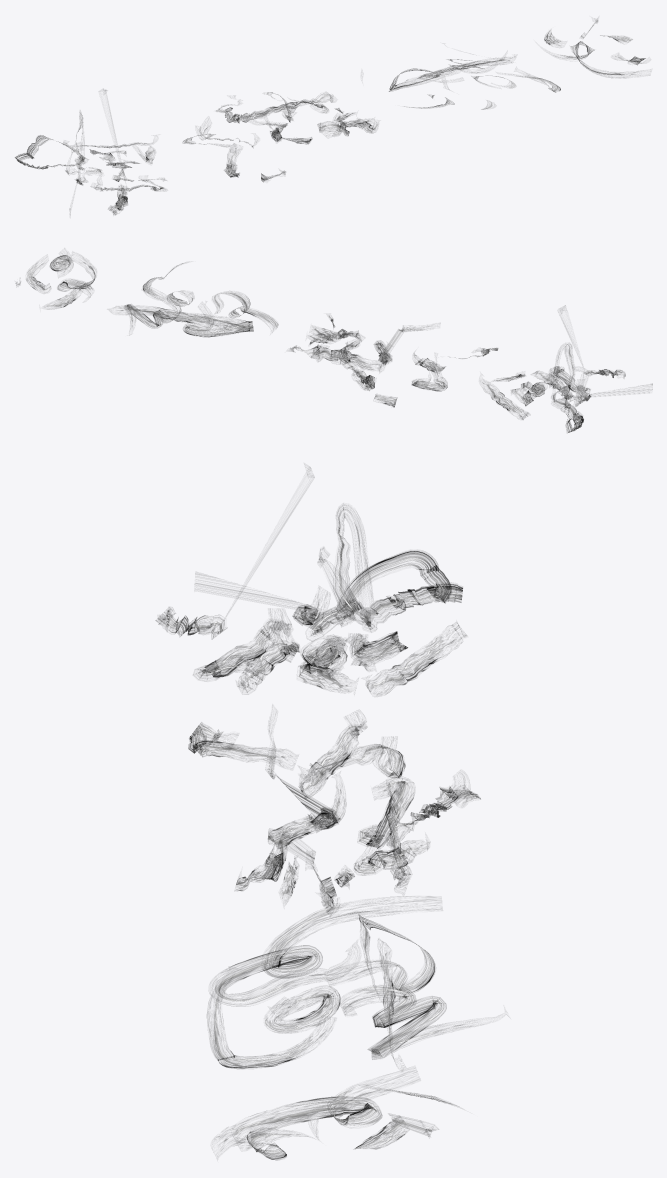
File: writing.glb
The picture shows the model from 3 angles, top to bottom: view 1: azimuth 30°, elevation 25°; view 2: azimuth 150°, elevation 25°; view 3: azimuth 270°, elevation 25°; orthographic projection. The views are drawn at different scales.
Parts seen in each view (by area): view 1: NewOfflineLineRendererPrefab_1_Clone__29, NewOfflineLineRendererPrefab_1_Clone__11, NewOfflineLineRendererPrefab_1_Clone__12, NewOfflineLineRendererPrefab_1_Clone__3, NewOfflineLineRendererPrefab_1_Clone__6; view 2: NewOfflineLineRendererPrefab_1_Clone__6, NewOfflineLineRendererPrefab_1_Clone__29, NewOfflineLineRendererPrefab_1_Clone__5, NewOfflineLineRendererPrefab_1_Clone__11, NewOfflineLineRendererPrefab_1_Clone__9, NewOfflineLineRendererPrefab_1_Clone__4, NewOfflineLineRendererPrefab_1_Clone__12, NewOfflineLineRendererPrefab_1_Clone__3, NewOfflineLineRendererPrefab_1_Clone__32, NewOfflineLineRendererPrefab_1_Clone__25, NewOfflineLineRendererPrefab_1_Clone__22, NewOfflineLineRendererPrefab_1_Clone__20; view 3: NewOfflineLineRendererPrefab_1_Clone__29, NewOfflineLineRendererPrefab_1_Clone__9, NewOfflineLineRendererPrefab_1_Clone__4, NewOfflineLineRendererPrefab_1_Clone__3, NewOfflineLineRendererPrefab_1_Clone__32, NewOfflineLineRendererPrefab_1_Clone__7, NewOfflineLineRendererPrefab_1_Clone__6, NewOfflineLineRendererPrefab_1_Clone__8, NewOfflineLineRendererPrefab_1_Clone__13, NewOfflineLineRendererPrefab_1_Clone__24, NewOfflineLineRendererPrefab_1_Clone__27, NewOfflineLineRendererPrefab_1_Clone__25 (+5 smaller).
Boxes of the visible parts, x1,y1,x2,y2 form: NewOfflineLineRendererPrefab_1_Clone__29: (15,112,101,214); NewOfflineLineRendererPrefab_1_Clone__11: (244,93,332,120); NewOfflineLineRendererPrefab_1_Clone__12: (216,101,295,123); NewOfflineLineRendererPrefab_1_Clone__3: (553,41,638,77); NewOfflineLineRendererPrefab_1_Clone__6: (389,68,453,91); NewOfflineLineRendererPrefab_1_Clone__6: (183,314,253,337); NewOfflineLineRendererPrefab_1_Clone__29: (551,344,652,432); NewOfflineLineRendererPrefab_1_Clone__5: (118,306,230,330); NewOfflineLineRendererPrefab_1_Clone__11: (290,345,384,371); NewOfflineLineRendererPrefab_1_Clone__9: (212,291,278,329); NewOfflineLineRendererPrefab_1_Clone__4: (124,304,181,328); NewOfflineLineRendererPrefab_1_Clone__12: (329,355,374,390); NewOfflineLineRendererPrefab_1_Clone__3: (57,257,95,297); NewOfflineLineRendererPrefab_1_Clone__32: (548,366,590,393); NewOfflineLineRendererPrefab_1_Clone__25: (482,382,528,419); NewOfflineLineRendererPrefab_1_Clone__22: (411,362,447,391); NewOfflineLineRendererPrefab_1_Clone__20: (378,326,429,364); NewOfflineLineRendererPrefab_1_Clone__29: (195,505,462,635); NewOfflineLineRendererPrefab_1_Clone__9: (211,896,437,1004); NewOfflineLineRendererPrefab_1_Clone__4: (340,985,472,1059); NewOfflineLineRendererPrefab_1_Clone__3: (216,1071,416,1150); NewOfflineLineRendererPrefab_1_Clone__32: (193,609,291,679); NewOfflineLineRendererPrefab_1_Clone__7: (207,982,331,1068); NewOfflineLineRendererPrefab_1_Clone__6: (327,914,434,992); NewOfflineLineRendererPrefab_1_Clone__8: (265,986,340,1032); NewOfflineLineRendererPrefab_1_Clone__13: (358,777,414,848); NewOfflineLineRendererPrefab_1_Clone__24: (188,722,294,766); NewOfflineLineRendererPrefab_1_Clone__27: (347,631,407,670); NewOfflineLineRendererPrefab_1_Clone__25: (366,623,466,694).
Size of the model in its own units: 5.31 by 1.21 by 1.39.
Materials: 34 (34 with a texture image).
